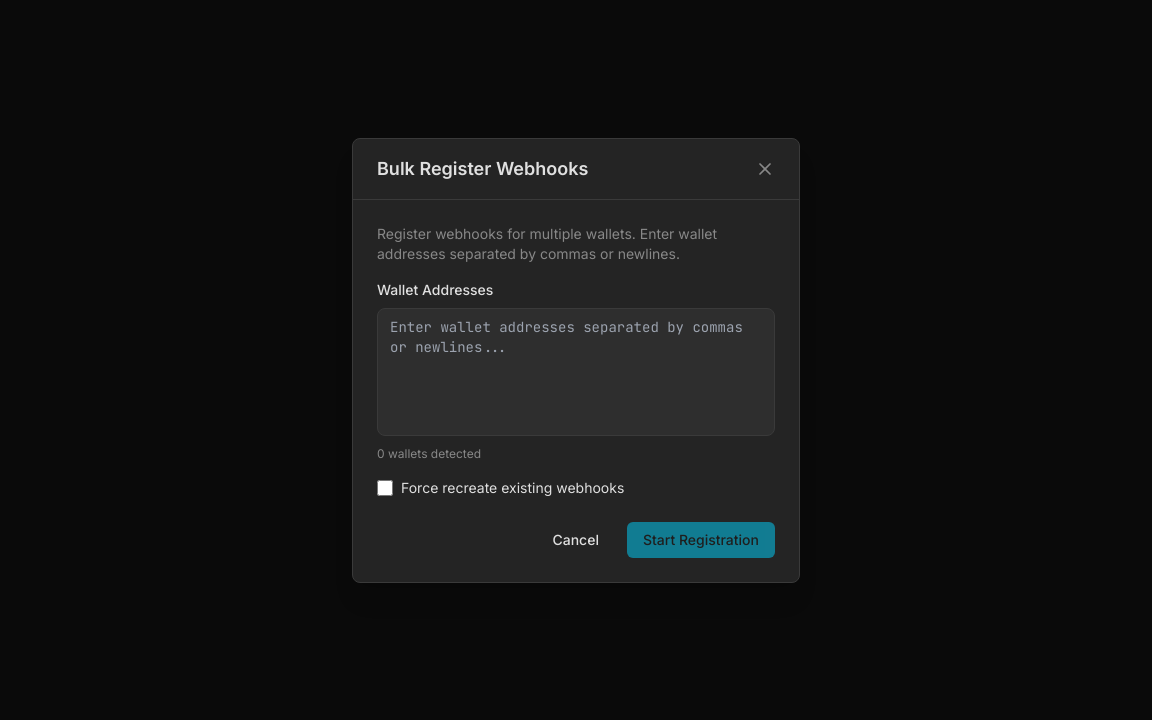
BulkOperationModal › shows the success icon when nothing failed
Type "w1" into the text box labelled "Wallet Addresses". click: (576, 372)
box: 377,308 -> 775,436
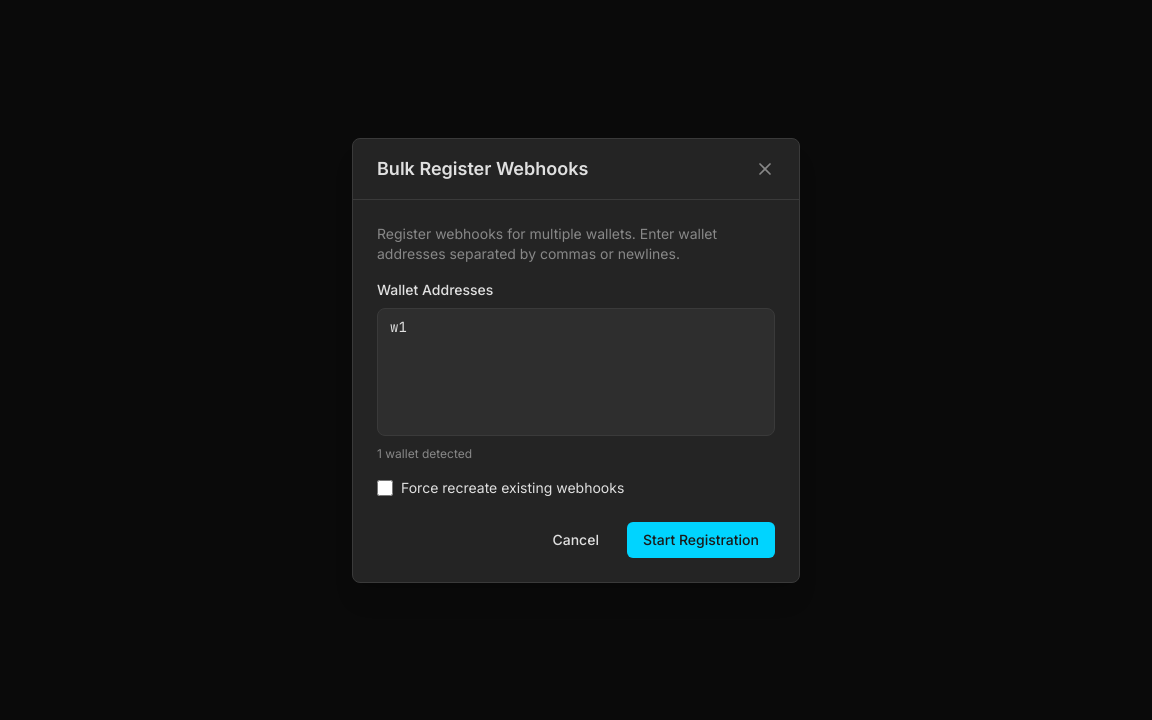
Click the button "Start Registration". click: (701, 540)
box: 627,522 -> 775,558
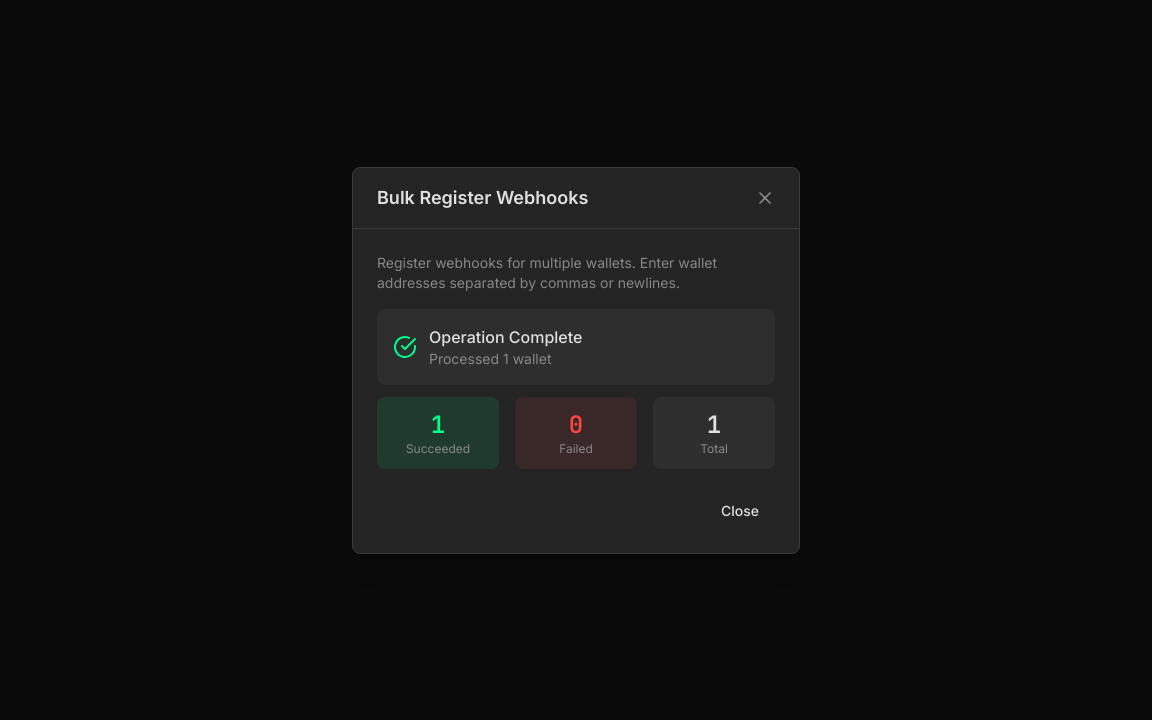
expect the text "Operation Complete" is shown: met, box 429,324 -> 582,348
